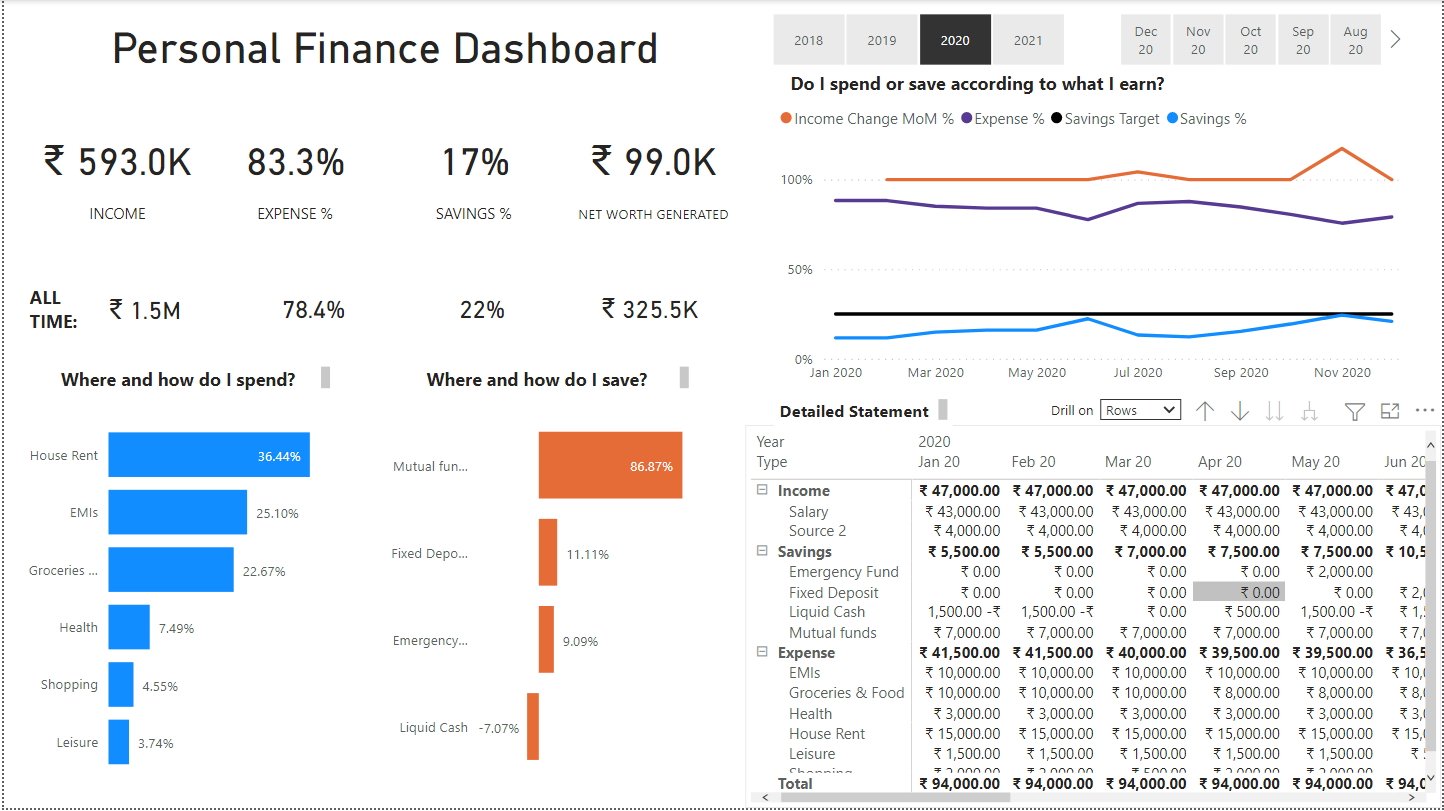

The dashboard page shown, as its layout file describes it:
{"tool":"powerbi","page":{"name":"Fin Dash","canvas":[1280,720],"ordinal":0},"visuals":[{"type":"card","fields":{"Values":["Key Measures.Total Income"]},"box":[20.6,73.1,159.3,136],"z":0},{"type":"card","fields":{"Values":["Key Measures.Expense %"]},"box":[179.9,73.1,159,136],"z":1000},{"type":"card","fields":{"Values":["Key Measures.Savings %"]},"box":[339.2,73.1,159.3,136],"z":2000},{"type":"card","fields":{"Values":["Key Measures.Total Savings"]},"box":[498.5,73.1,159.3,136],"z":3000},{"type":"textbox","box":[498.5,176.1,159.3,31.6],"z":4000},{"type":"textbox","box":[46.7,176.1,108.5,31.6],"z":5000},{"type":"textbox","box":[363.9,176.1,108.5,31.6],"z":6000},{"type":"textbox","box":[204.6,176.1,108.5,31.6],"z":7000},{"type":"card","fields":{"Values":["Key Measures.Total Income"]},"box":[60.4,211.8,130.5,129.1],"z":8000},{"type":"card","fields":{"Values":["Key Measures.Expense %"]},"box":[210.3,210.1,130.5,130],"z":9000},{"type":"card","fields":{"Values":["Key Measures.Savings %"]},"box":[360.2,210.1,130.5,130],"z":10000},{"type":"card","fields":{"Values":["Key Measures.Total Savings"]},"box":[510.1,210.1,130.5,130],"z":11000},{"type":"card","fields":{"Values":["Key Measures.Title"]},"box":[83.2,6,512.6,67.5],"z":12000},{"type":"textbox","box":[17.9,248.6,59.1,53.6],"z":13000},{"type":"slicer","fields":{"Values":["FinData.Date"]},"box":[968.2,5.5,281.5,59.1],"z":14000},{"type":"slicer","fields":{"Values":["FinData.Year"]},"box":[659.2,5.5,309,59.1],"z":15000},{"type":"clusteredBarChart","fields":{"Category":["FinData.Component"],"Y":["Key Measures.Total Expense"]},"box":[0,351.6,318.6,355.7],"z":16000},{"type":"textbox","box":[22,321.4,273.3,30.2],"z":17000},{"type":"clusteredBarChart","fields":{"Category":["FinData.Component"],"Y":["Key Measures.Total Savings"]},"box":[328.2,340.6,325.5,374.9],"z":18000},{"type":"textbox","box":[342,321.4,273.3,30.2],"z":19000},{"type":"lineChart","fields":{"Y":["Key Measures.Income Change MoM %","Key Measures.Expense %","Key Measures.Savings Target","Key Measures.Savings %"],"Category":["FinData.Date"]},"box":[685,85,581,266],"z":20000},{"type":"textbox","box":[685,58,362,35],"z":21000},{"type":"pivotTable","fields":{"Values":["Key Measures.Values"],"Rows":["Type.Type","FinData.Component","FinData.Date.Variation.Date Hierarchy.Year"],"Columns":["FinData.Year","FinData.Date"]},"box":[659.7,378.7,619.9,341.3],"z":22000},{"type":"textbox","box":[685,351,159,29],"z":22001}]}

Visuals, with their boxes in screenshot pixels (x1, y1, x2, y2), scaled from the page's 1280x720 canvas onto the 1444x811 screenshot:
card - Key Measures.Total Income: (23,82,203,236)
card - Key Measures.Expense %: (203,82,382,236)
card - Key Measures.Savings %: (383,82,562,236)
card - Key Measures.Total Savings: (562,82,742,236)
textbox: (562,198,742,234)
textbox: (53,198,175,234)
textbox: (411,198,533,234)
textbox: (231,198,353,234)
card - Key Measures.Total Income: (68,239,215,384)
card - Key Measures.Expense %: (237,237,384,383)
card - Key Measures.Savings %: (406,237,554,383)
card - Key Measures.Total Savings: (575,237,723,383)
card - Key Measures.Title: (94,7,672,83)
textbox: (20,280,87,340)
slicer - FinData.Date: (1092,6,1410,73)
slicer - FinData.Year: (744,6,1092,73)
clusteredBarChart - FinData.Component x Key Measures.Total Expense: (0,396,359,797)
textbox: (25,362,333,396)
clusteredBarChart - FinData.Component x Key Measures.Total Savings: (370,384,737,806)
textbox: (386,362,694,396)
lineChart - Key Measures.Income Change MoM % x Key Measures.Expense %: (773,96,1428,395)
textbox: (773,65,1181,105)
pivotTable - Key Measures.Values x Type.Type: (744,427,1443,810)
textbox: (773,395,952,428)
